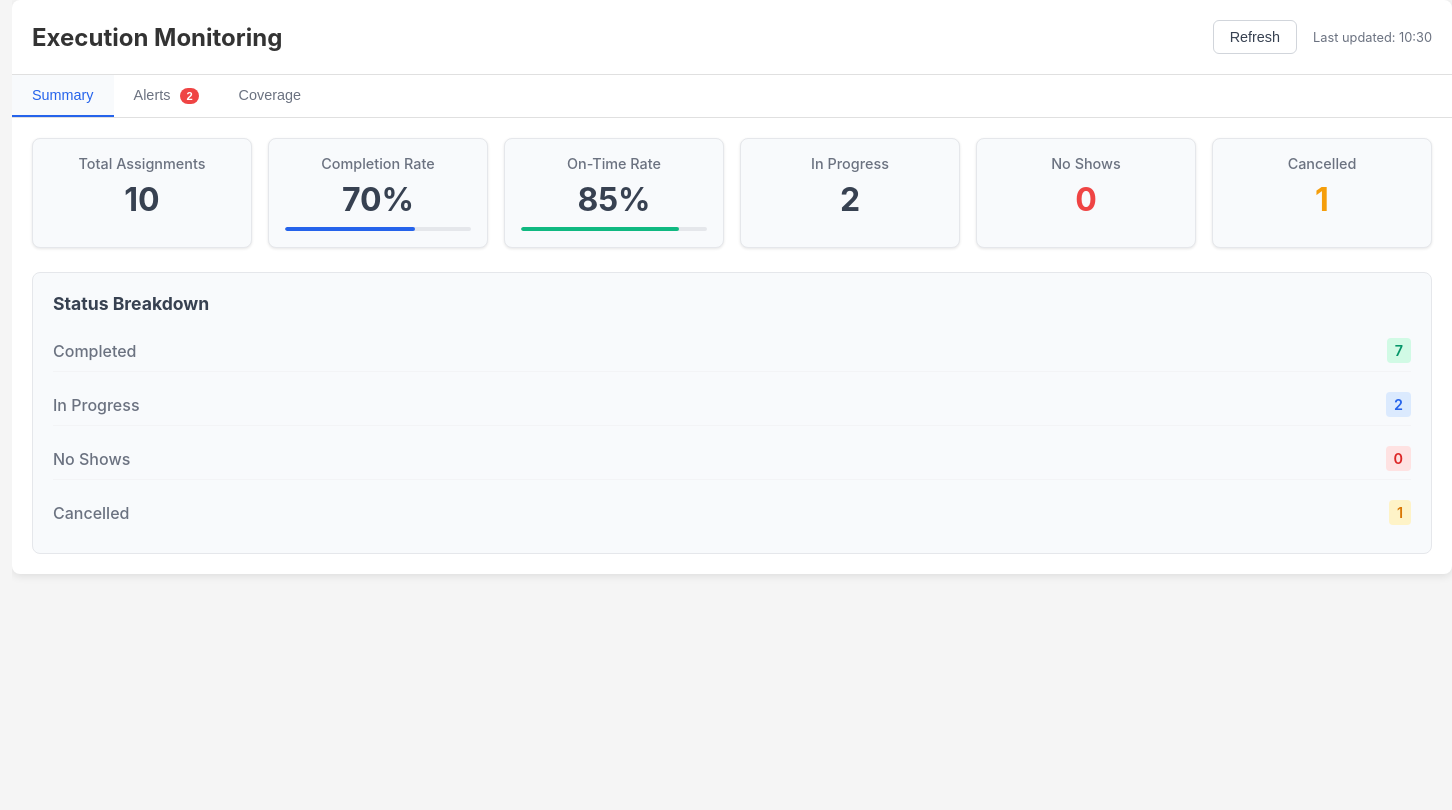
ExecutionMonitoring › should display no-show alerts
Step 1. Click the button "Alerts 2" → (166, 96), box [114,75,219,117]
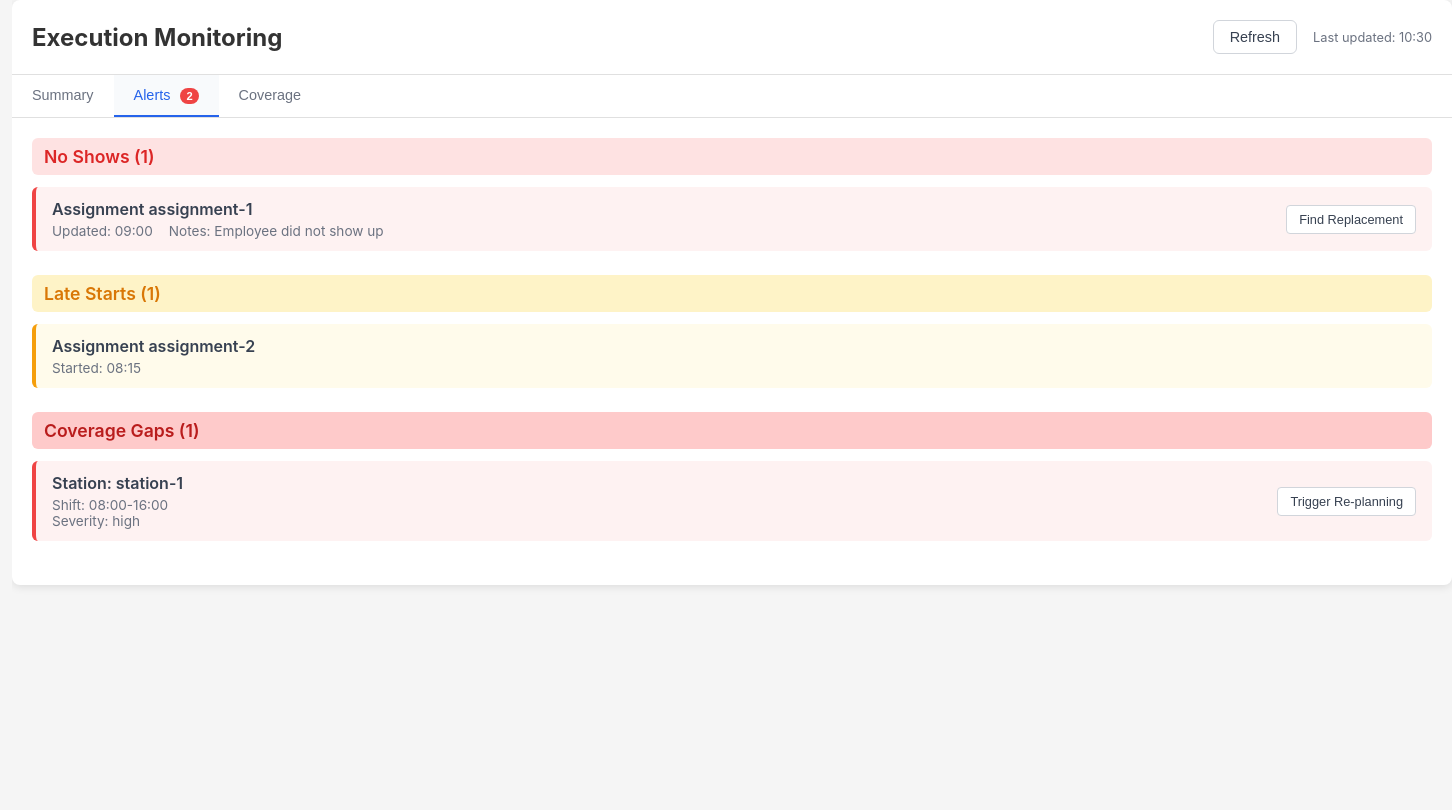
Check: the heading "No Shows (1)" is shown, box [32,138,1432,175]
Check: the text "Assignment assignment-1" is shown, box [52,199,252,219]
Check: the text "Notes: Employee did not show up" is shown, box [169,223,384,239]
